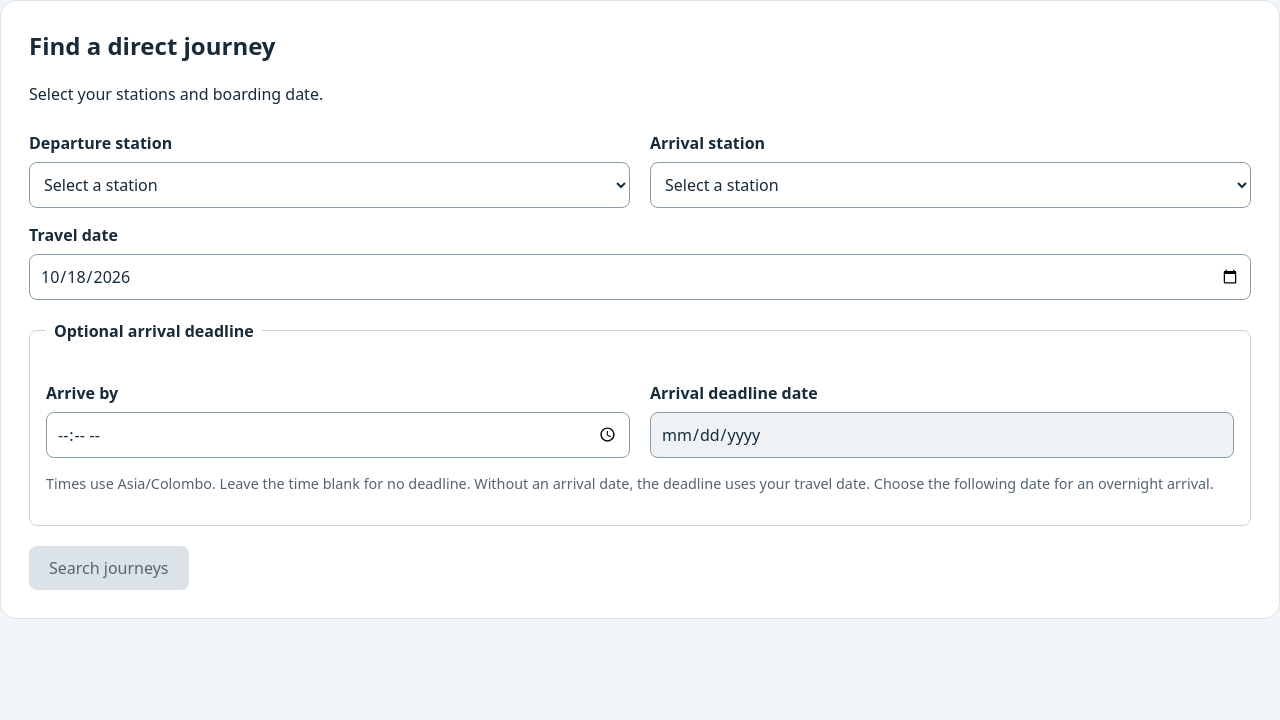
Scenario: Journey search › explains a search with no direct services
Select "Colombo Fort" in the dropdown labelled "Departure station" at x=330, y=184, box [29,162,630,208]
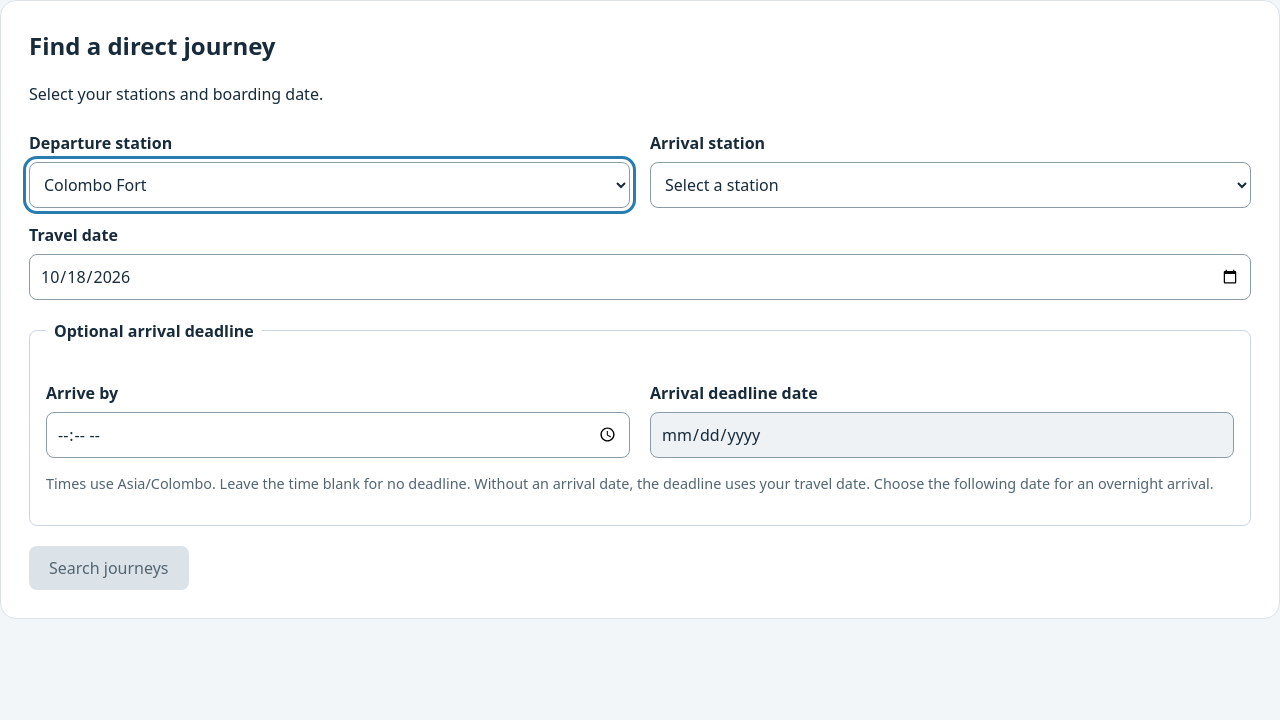
Select "Jaffna" in the dropdown labelled "Arrival station" at x=950, y=184, box [650,162,1251,208]
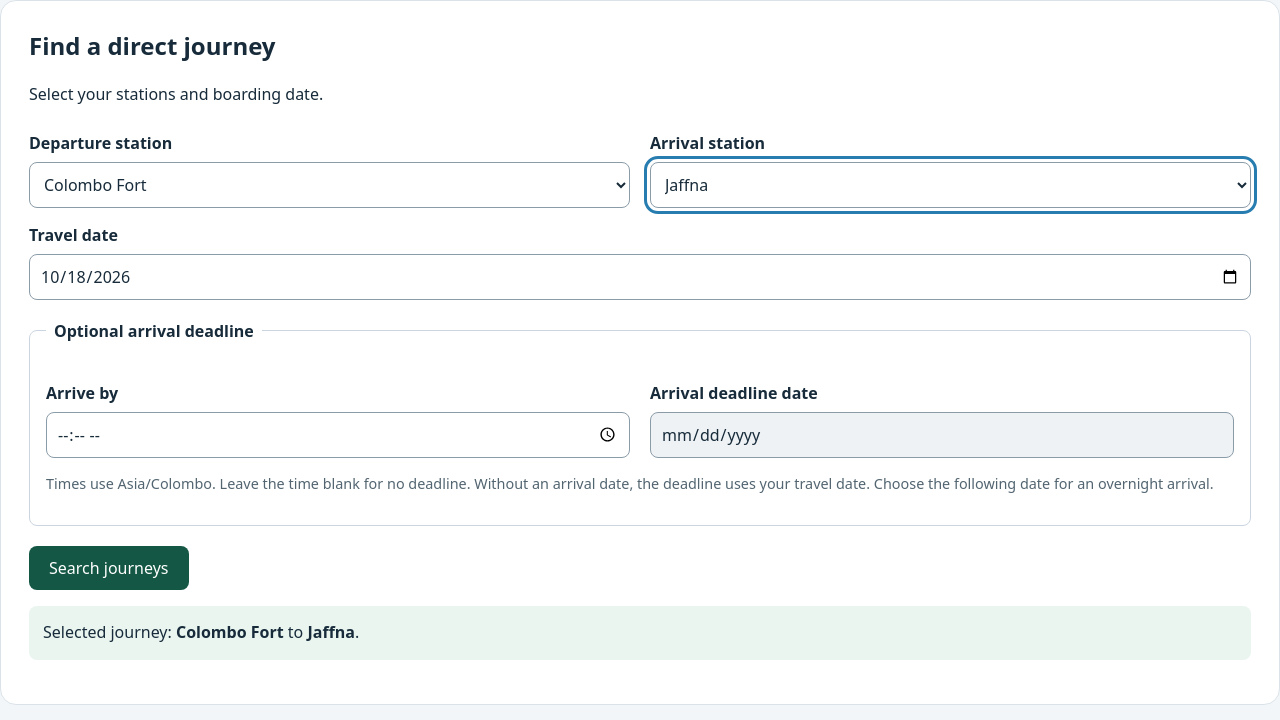
Type "2026-10-12" into the date field labelled "Travel date" at x=640, y=276, box [29,254,1251,300]
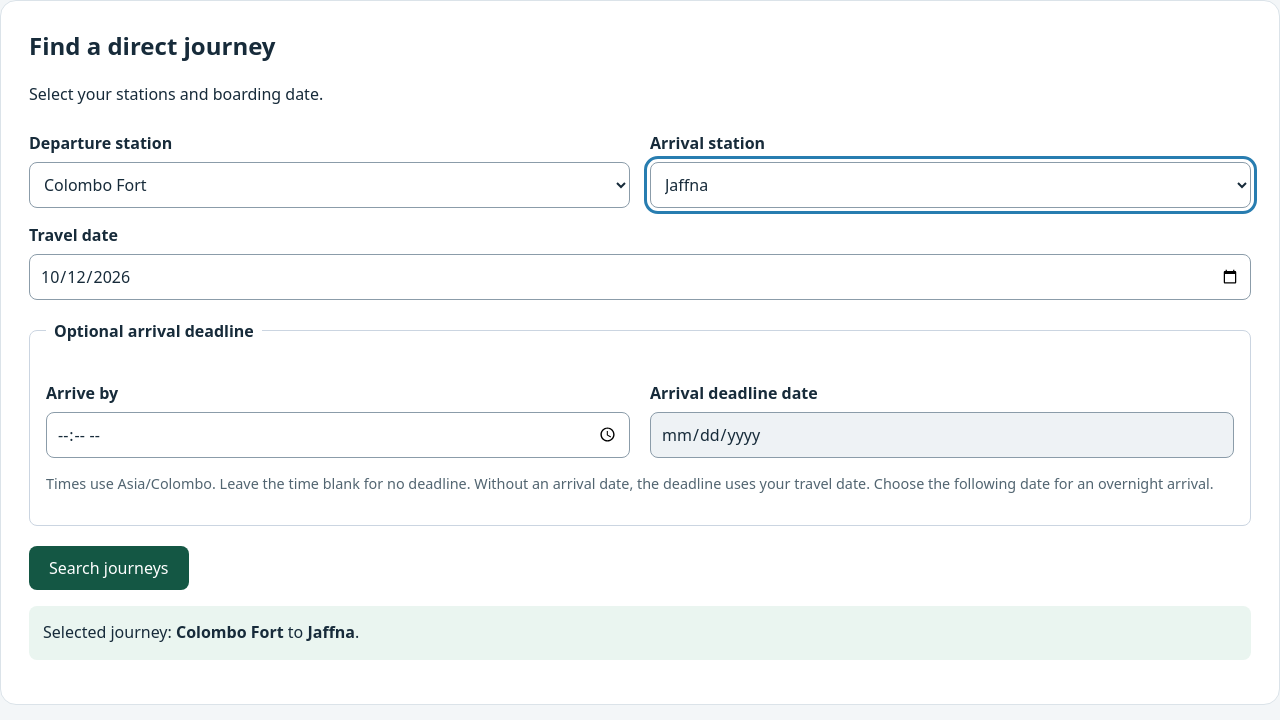
Click the button "Search journeys" at x=109, y=568, box [29,546,188,590]
(page scrolled)
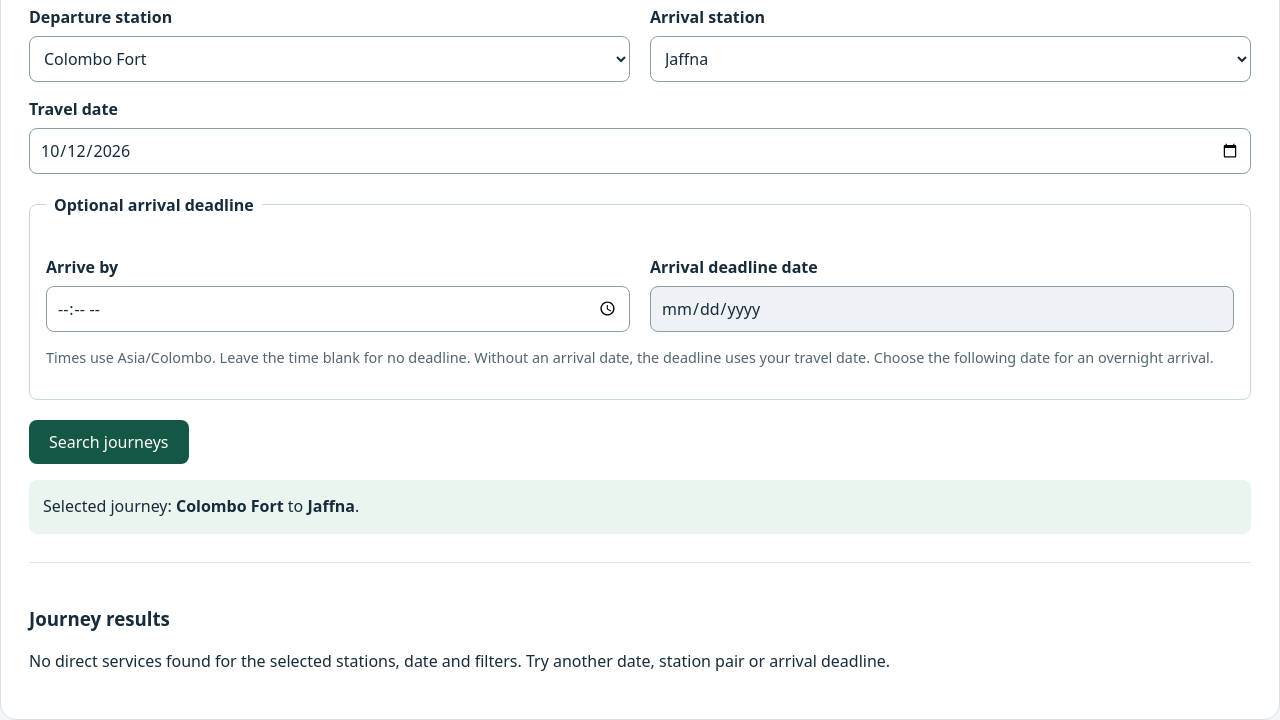
Now the text "No direct services found" is shown, box [29,650,890,672]
